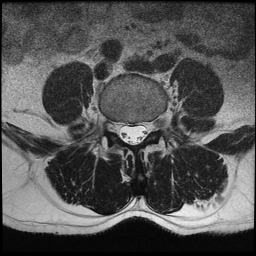CCS_normal: (129, 115, 138, 152)
LFS_normal: (149, 113, 158, 140)
LLS_normal: (138, 114, 148, 146)
RFS_normal: (111, 112, 120, 142)
RLS_normal: (120, 116, 128, 147)
